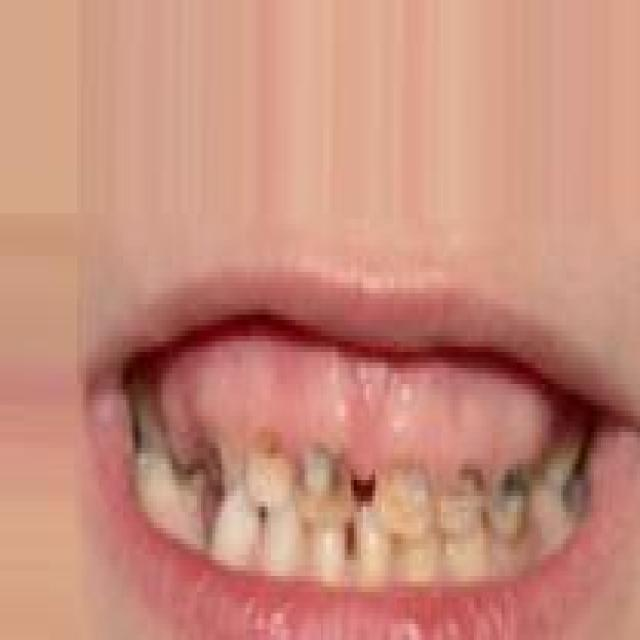caries: (375, 454, 434, 544), (292, 444, 353, 528), (437, 455, 485, 550), (240, 421, 291, 506), (488, 459, 533, 548)
